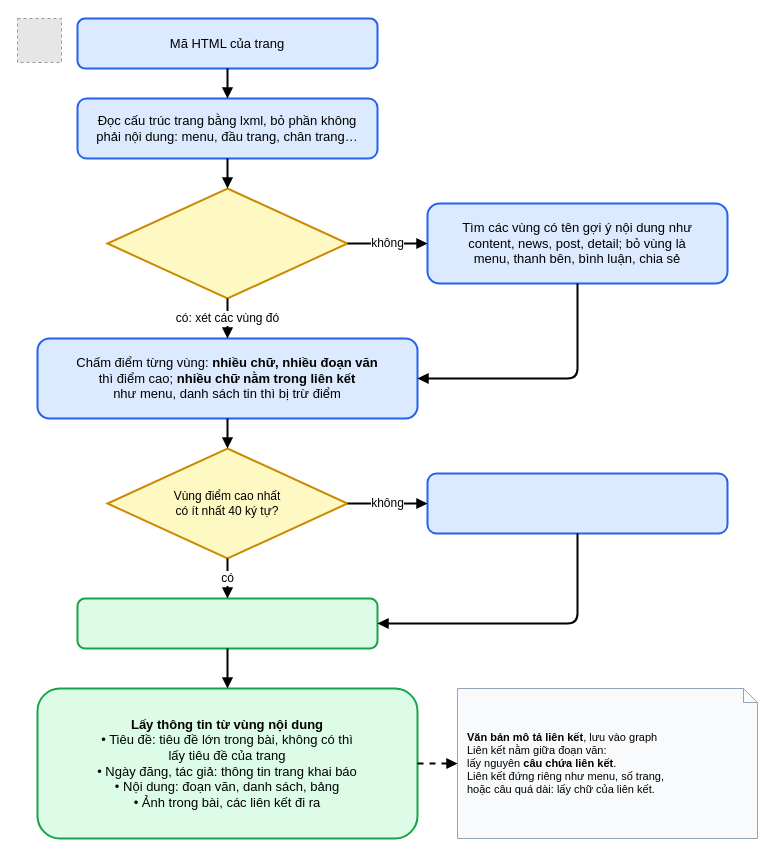
This 775x856 diagram has some shape labels left out. Grey dashed boxes stand in for pictures. The centre of each missing label's shape, as x and y in pixels:
Lấy cả trang làm nội dung: (577,503)
Trang có thẻ <article> hoặc <main> đánh dấu vùng bài viết?: (227,243)
Vùng nội dung chính: (227,623)
